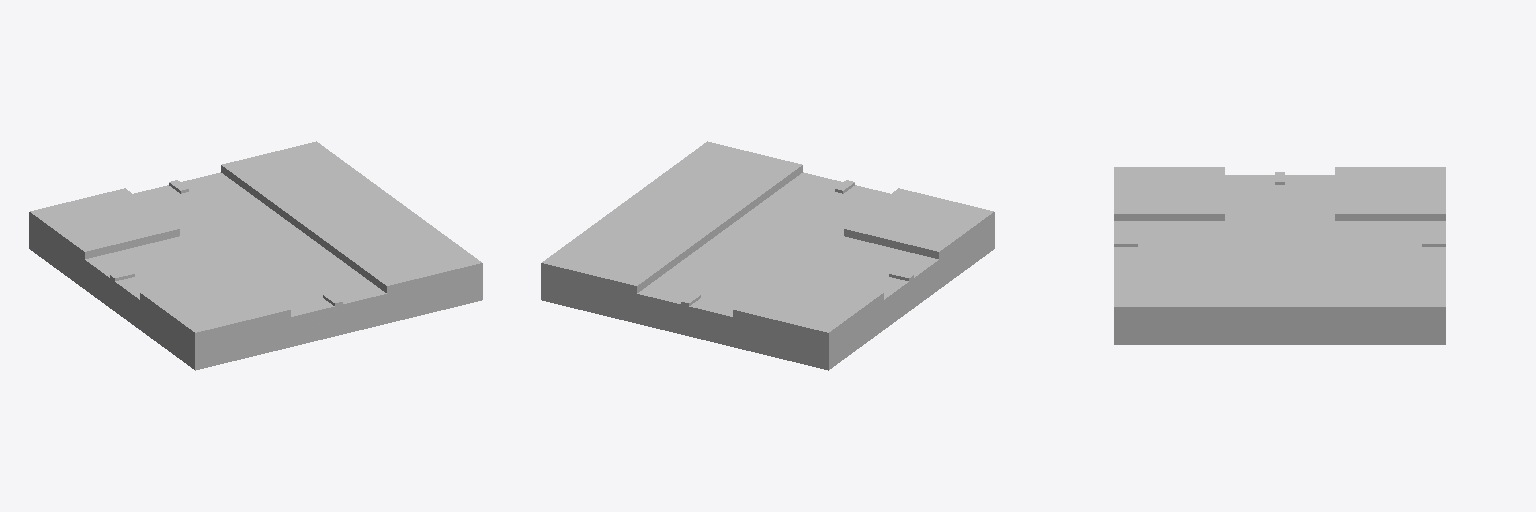
The model's file is Street_3Way_2.obj.
The picture shows the model from 3 angles: view 1: azimuth 30°, elevation 25°; view 2: azimuth 150°, elevation 25°; view 3: azimuth 270°, elevation 25°; orthographic projection.
Visible parts, largest first — view 1: Street_3Way_2_Cube.017; view 2: Street_3Way_2_Cube.017; view 3: Street_3Way_2_Cube.017.
Boxes of the visible parts, x1,y1,x2,y2 form: Street_3Way_2_Cube.017: [29, 141, 482, 370]; Street_3Way_2_Cube.017: [541, 141, 994, 370]; Street_3Way_2_Cube.017: [1114, 167, 1445, 344].
Size of the model in its own units: 2 by 0.25 by 2.